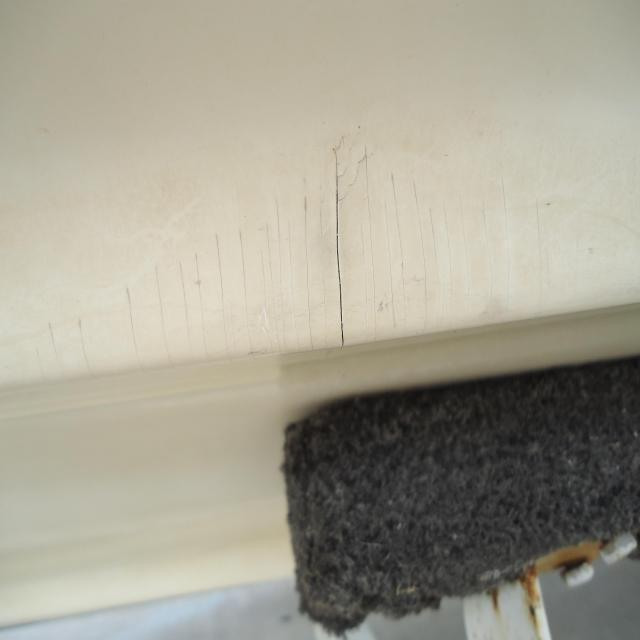Crack: (261, 196, 300, 355), (362, 141, 379, 341), (387, 167, 408, 310), (412, 175, 431, 333), (333, 141, 347, 351), (236, 220, 256, 356), (300, 186, 316, 354), (212, 230, 231, 356), (191, 248, 210, 360)
